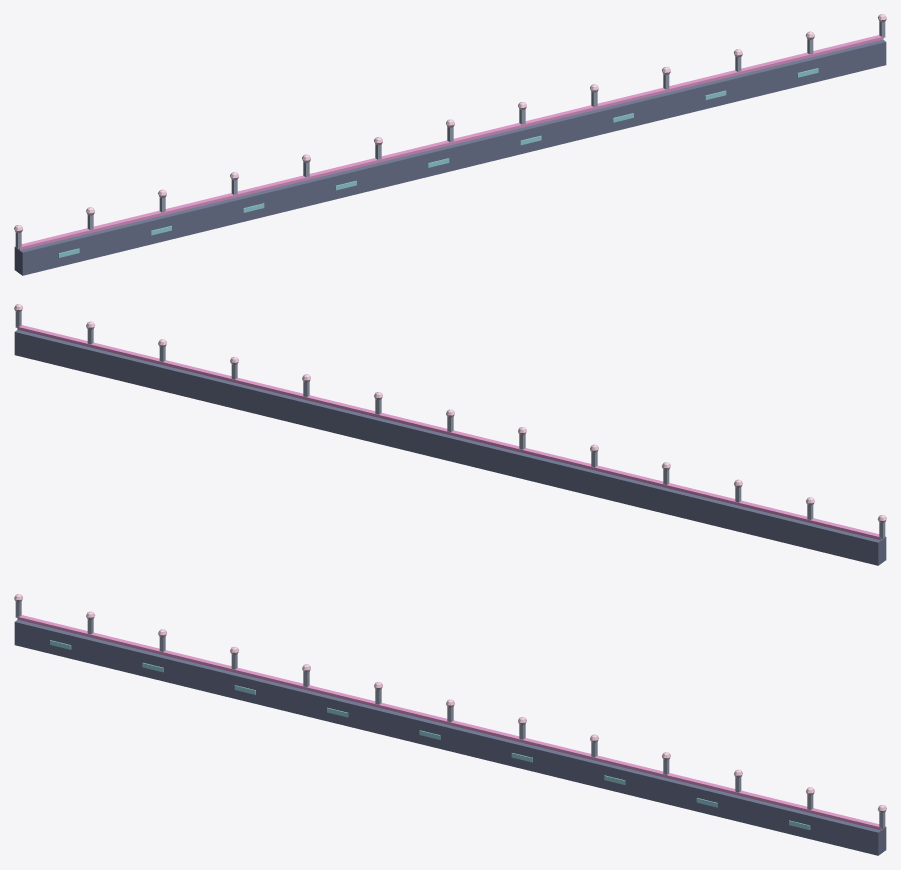
The model's file is barrera_frontal.glb.
3 renders of one model, top to bottom at view 1: azimuth 30°, elevation 25°; view 2: azimuth 150°, elevation 25°; view 3: azimuth 330°, elevation 25°, orthographic.
Visible parts, largest first — view 1: barrera_frontal; view 2: barrera_frontal; view 3: barrera_frontal.
Part boxes in pixels (x1,y1,x2,y2): barrera_frontal: (14,14,886,275); barrera_frontal: (14,304,886,565); barrera_frontal: (14,594,886,855).
Size of the model in its own units: 18.88 by 0.99 by 0.319.
